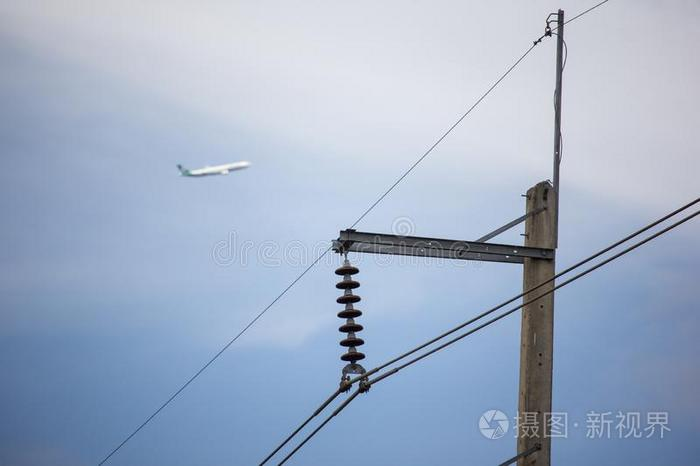insulator: (334, 263, 366, 362)
